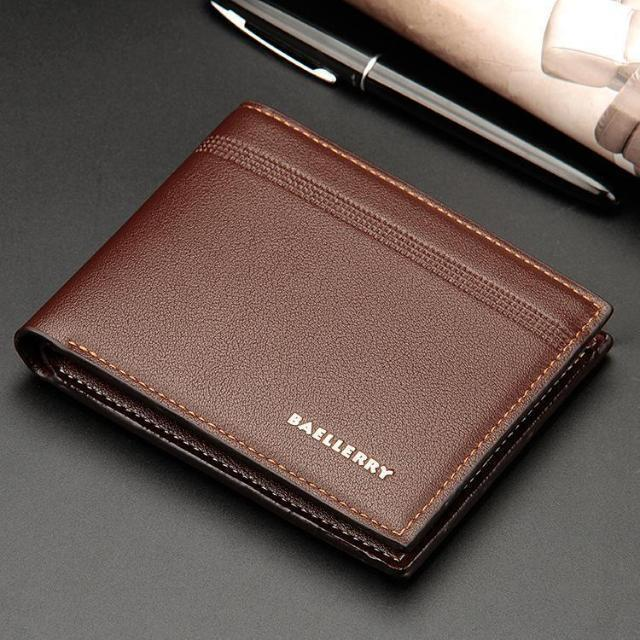cuzdan: (6, 76, 624, 600)
